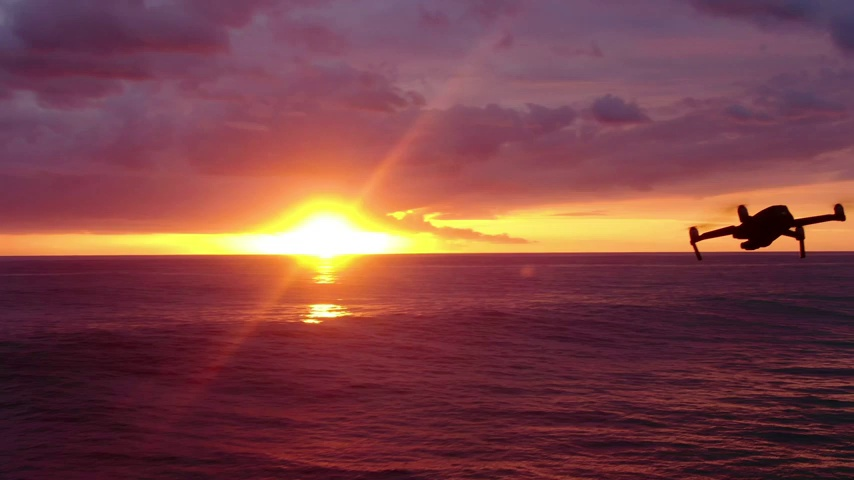drone: (687, 197, 847, 265)
